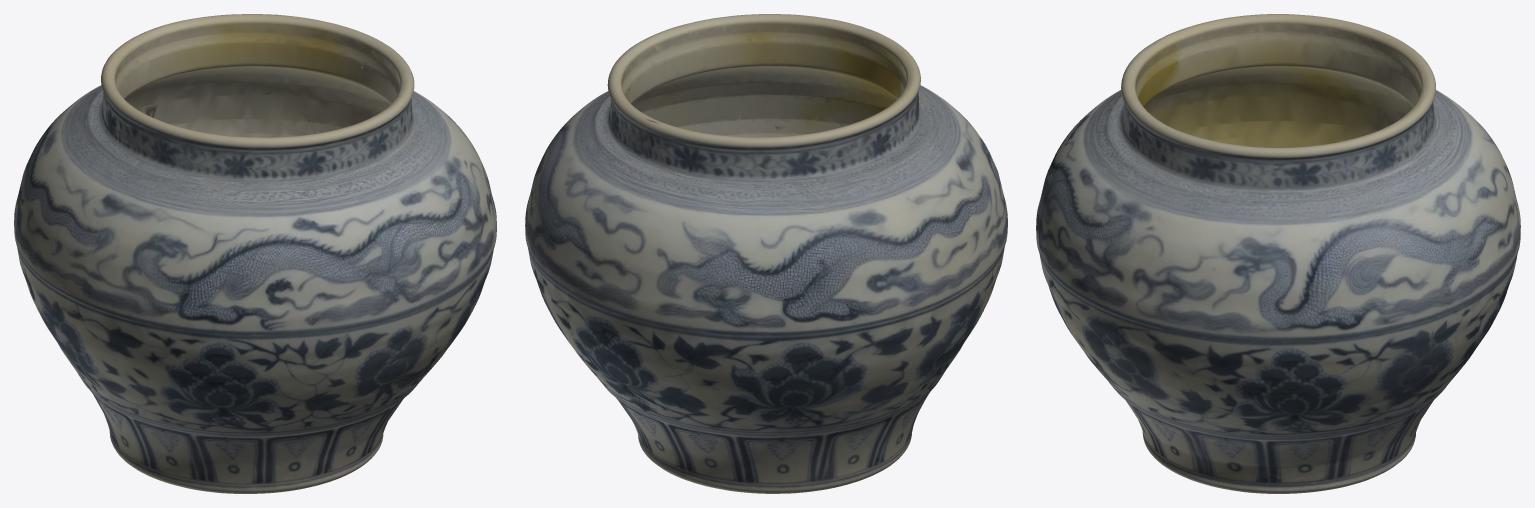
File: jiangjun.glb
3 renders of one model, left to right at view 1: azimuth 30°, elevation 25°; view 2: azimuth 150°, elevation 25°; view 3: azimuth 270°, elevation 25°, orthographic.
Parts seen in each view (by area): view 1: node_0; view 2: node_0; view 3: node_0.
Part boxes in pixels (x1,y1,x2,y2): node_0: (14,14,496,493); node_0: (525,14,1007,493); node_0: (1036,14,1520,493).
Bounding box in the file's own units: 1.15 × 0.9625 × 1.15.
1 material, 1 textured.
